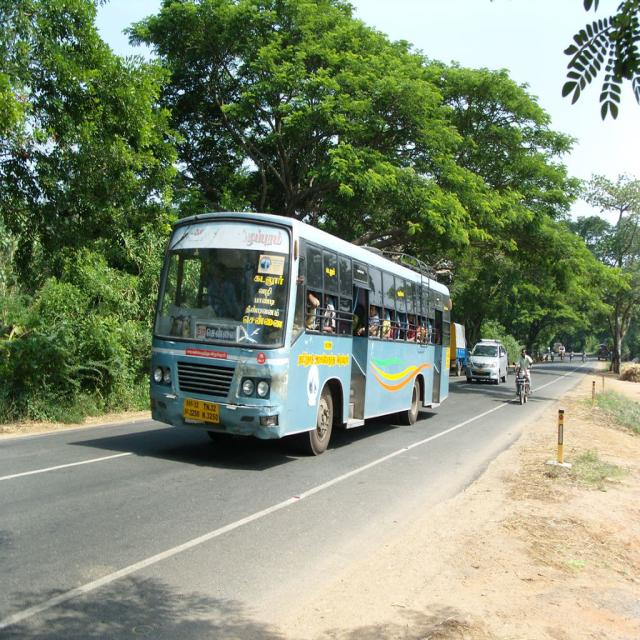car: (466, 338, 507, 385)
